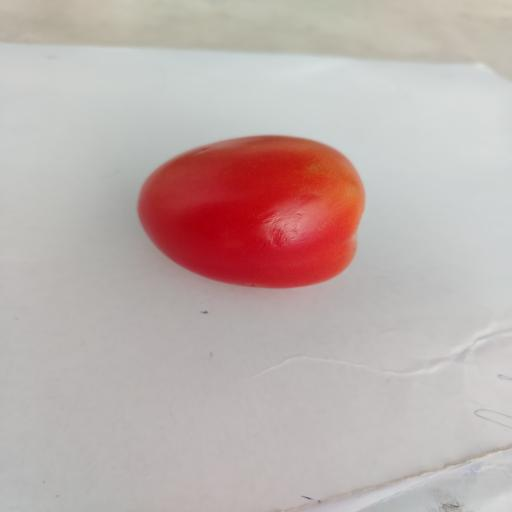ripe: (138, 136, 364, 287)
